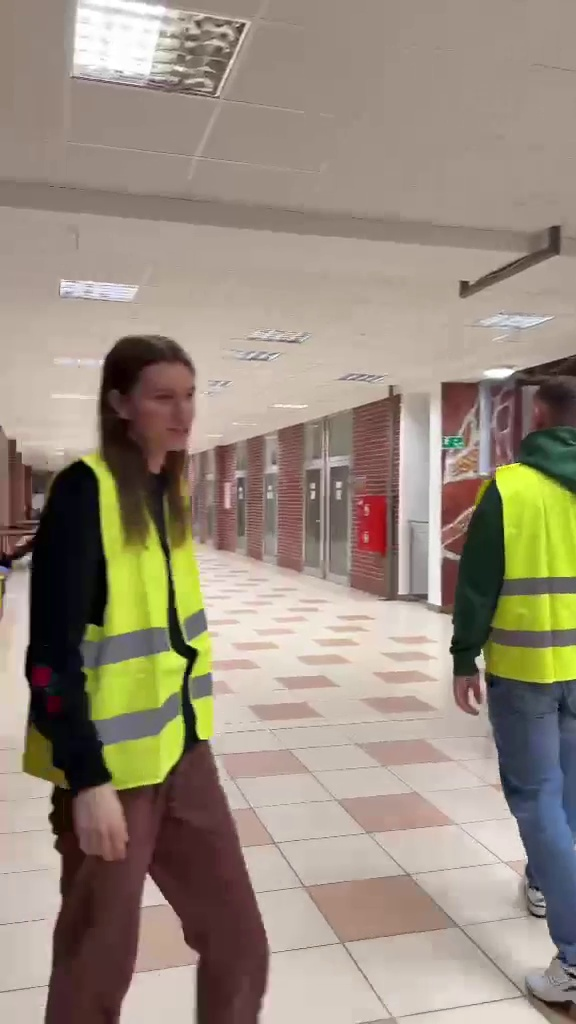vest: (29, 324, 279, 1005), (446, 371, 575, 1000)
